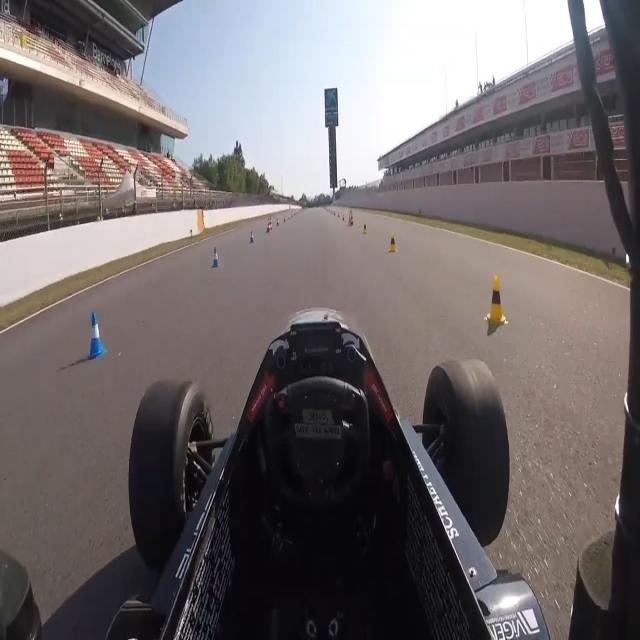blue_cone: (86, 303, 110, 368), (212, 245, 220, 268), (248, 228, 255, 244)
large_orange_cone: (269, 214, 274, 233), (266, 216, 271, 234), (350, 209, 354, 227)
yellow_cone: (485, 272, 507, 326), (388, 230, 398, 254), (362, 220, 368, 235)
